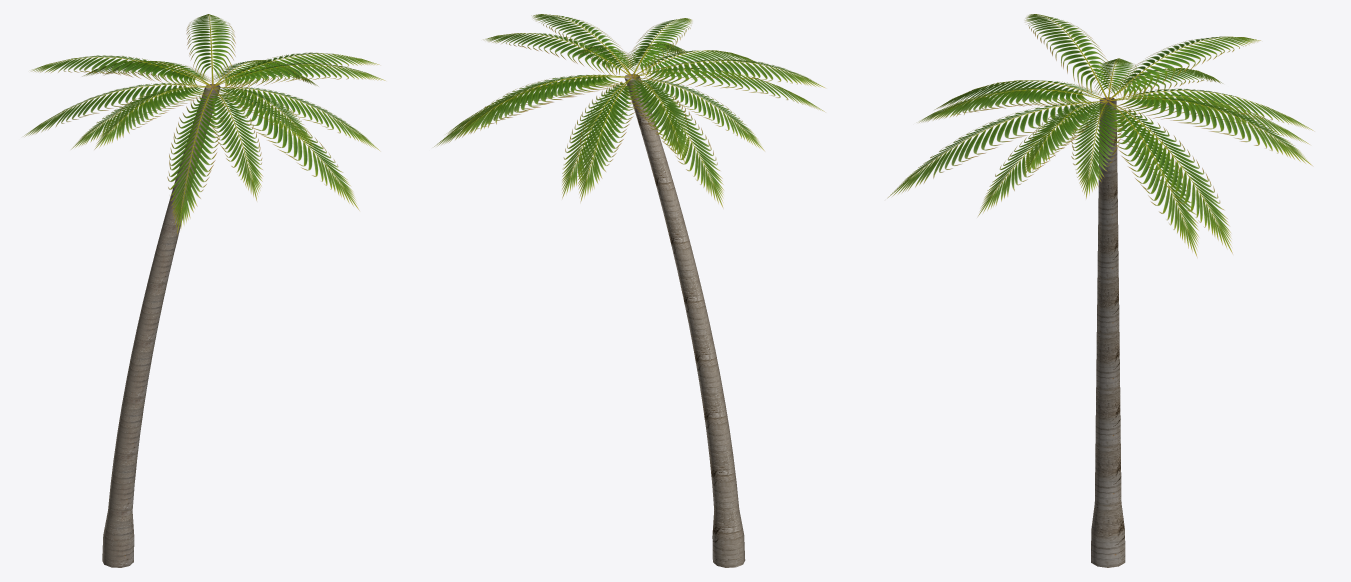
The model's file is palm_03.gltf.
3 renders of one model, left to right at view 1: azimuth 30°, elevation 25°; view 2: azimuth 150°, elevation 25°; view 3: azimuth 270°, elevation 25°, orthographic. The views are drawn at different scales.
Visible parts, largest first — view 1: Fronds, Trunk; view 2: Fronds, Trunk; view 3: Fronds, Trunk.
Boxes of the visible parts, bbox=[...] form: Fronds: bbox=[23, 14, 385, 234]; Trunk: bbox=[102, 83, 220, 567]; Fronds: bbox=[434, 14, 824, 208]; Trunk: bbox=[624, 74, 745, 567]; Fronds: bbox=[887, 14, 1313, 257]; Trunk: bbox=[1091, 97, 1125, 567].
Size of the model in its own units: 7.69 by 10.48 by 8.26.
Materials: 2 (2 with a texture image).
